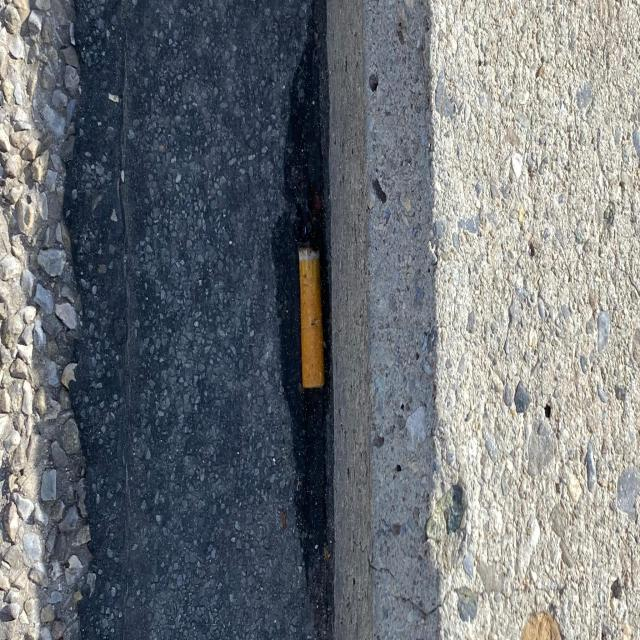other waste: (296, 237, 325, 391)
